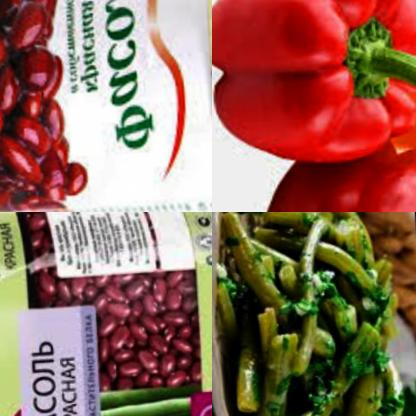bell pepper: (212, 0, 416, 189), (226, 149, 416, 212)
fasol: (213, 212, 416, 416), (20, 263, 208, 395), (0, 0, 96, 212), (13, 212, 59, 288)
